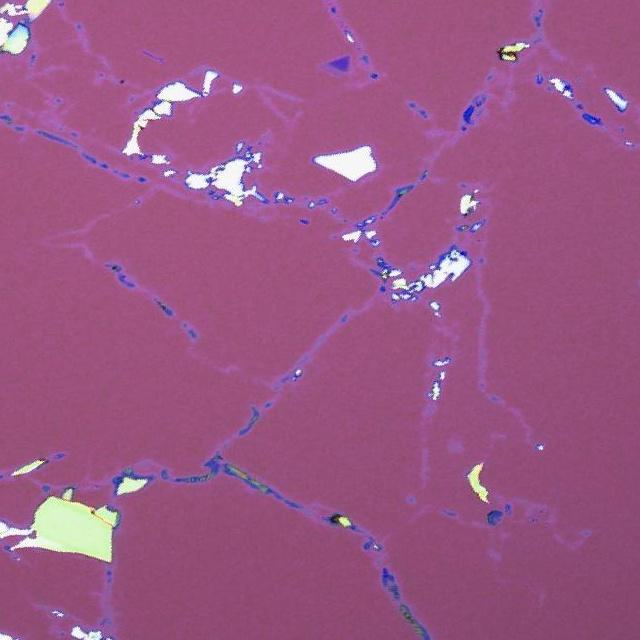monolayer-eWW4: (318, 63, 342, 76)
